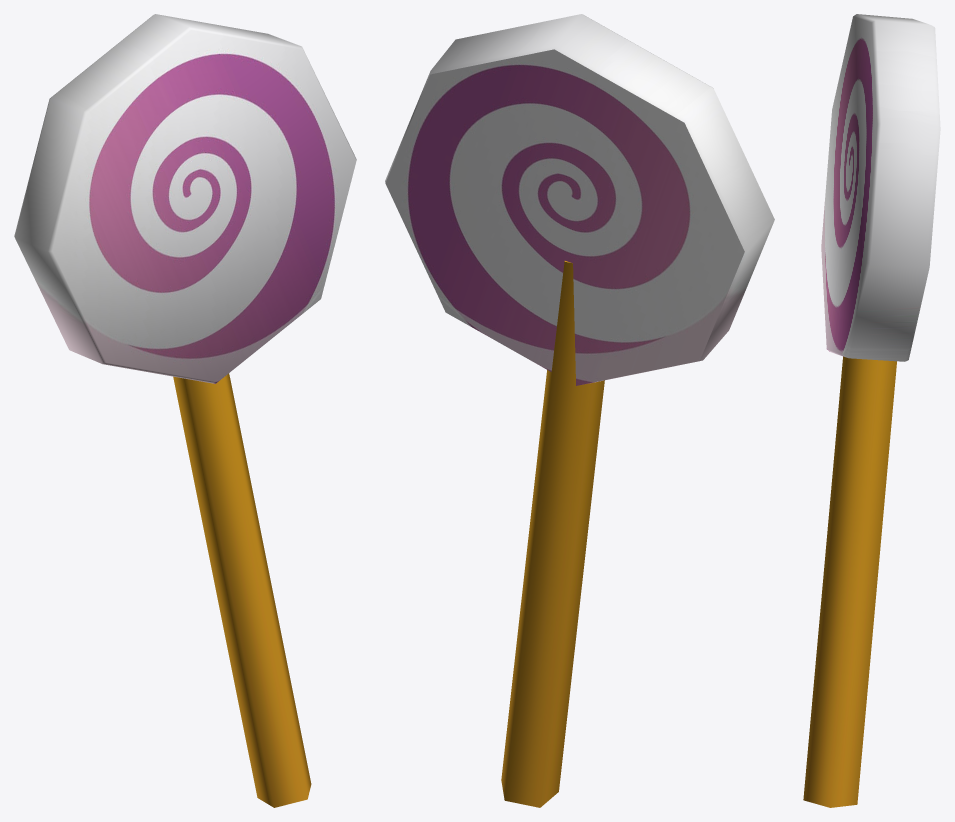
Rendered from AF_M_Prop_12.FBX.
3 renders of one model, left to right at view 1: azimuth 30°, elevation 25°; view 2: azimuth 150°, elevation 25°; view 3: azimuth 270°, elevation 25°, orthographic. The views are drawn at different scales.
Visible parts, largest first — view 1: AF_M_Prop_12; view 2: AF_M_Prop_12; view 3: AF_M_Prop_12.
Part boxes in pixels (bbox=[...]): AF_M_Prop_12: bbox=[14, 14, 356, 807]; AF_M_Prop_12: bbox=[385, 14, 774, 807]; AF_M_Prop_12: bbox=[803, 14, 940, 807].
Bounding box in the file's own units: 152 × 340 × 56.5.
1 material, 1 textured.
